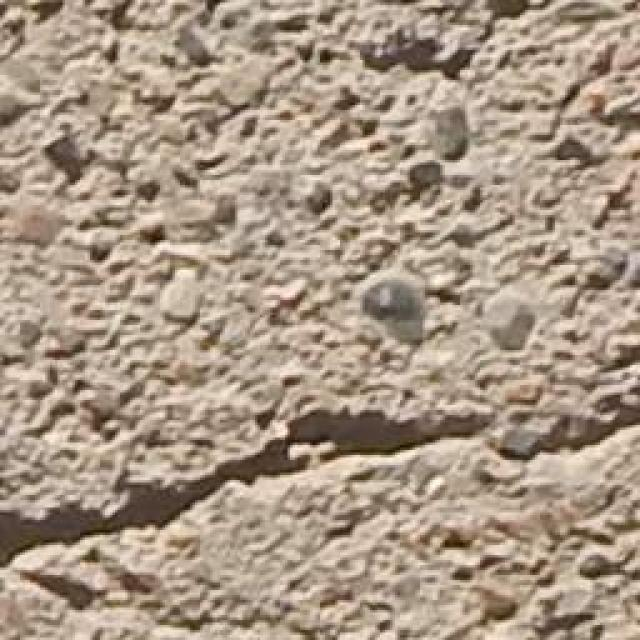concrete-crack: (0, 343, 640, 626)
